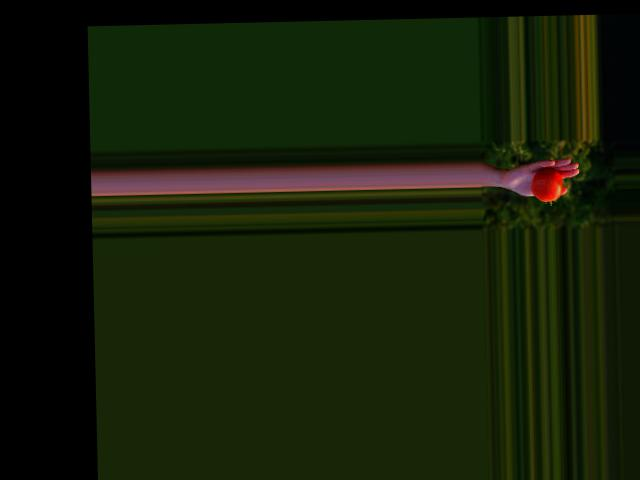tomato: (532, 166, 563, 201)
